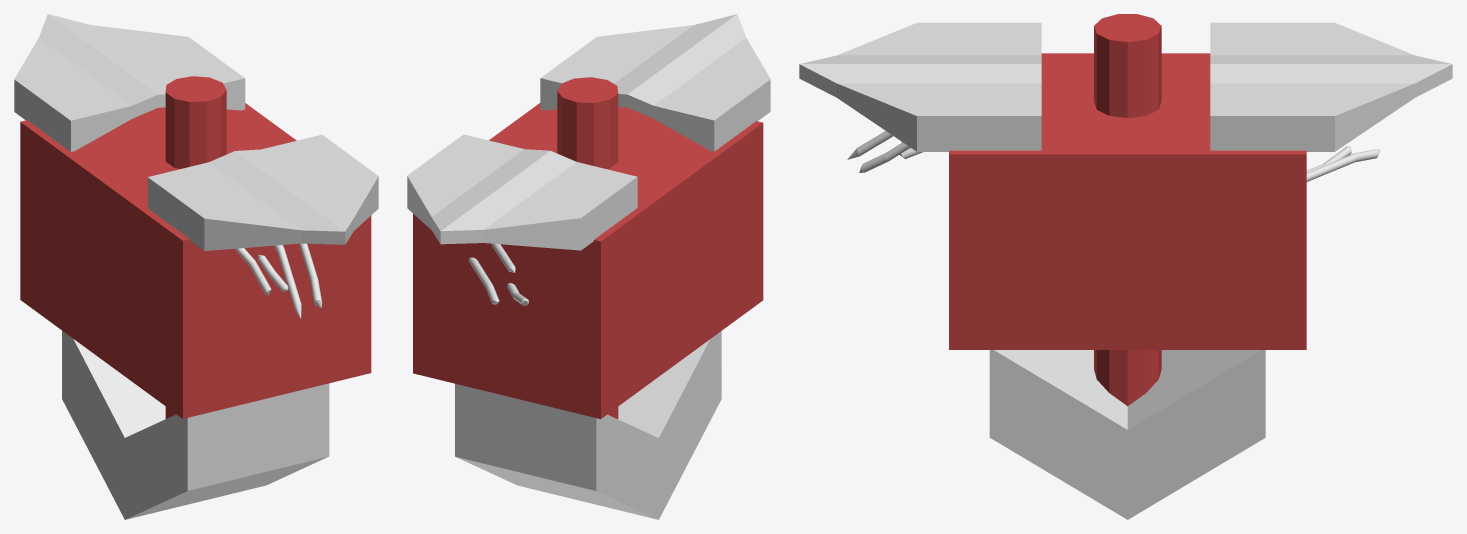
The model's file is Chest.fbx.
3 views of the same model, side by side, from view 1: azimuth 30°, elevation 25°; view 2: azimuth 150°, elevation 25°; view 3: azimuth 270°, elevation 25° (orthographic). The views are drawn at different scales.
Parts seen in each view (by area): view 1: polySurface354; view 2: polySurface354; view 3: polySurface354.
Part boxes in pixels (x1=…): polySurface354: x1=14, y1=14, x2=378, y2=519; polySurface354: x1=407, y1=14, x2=770, y2=519; polySurface354: x1=799, y1=14, x2=1452, y2=519.
Bounding box in the file's own units: 0.6673 × 1.4 × 1.83.
